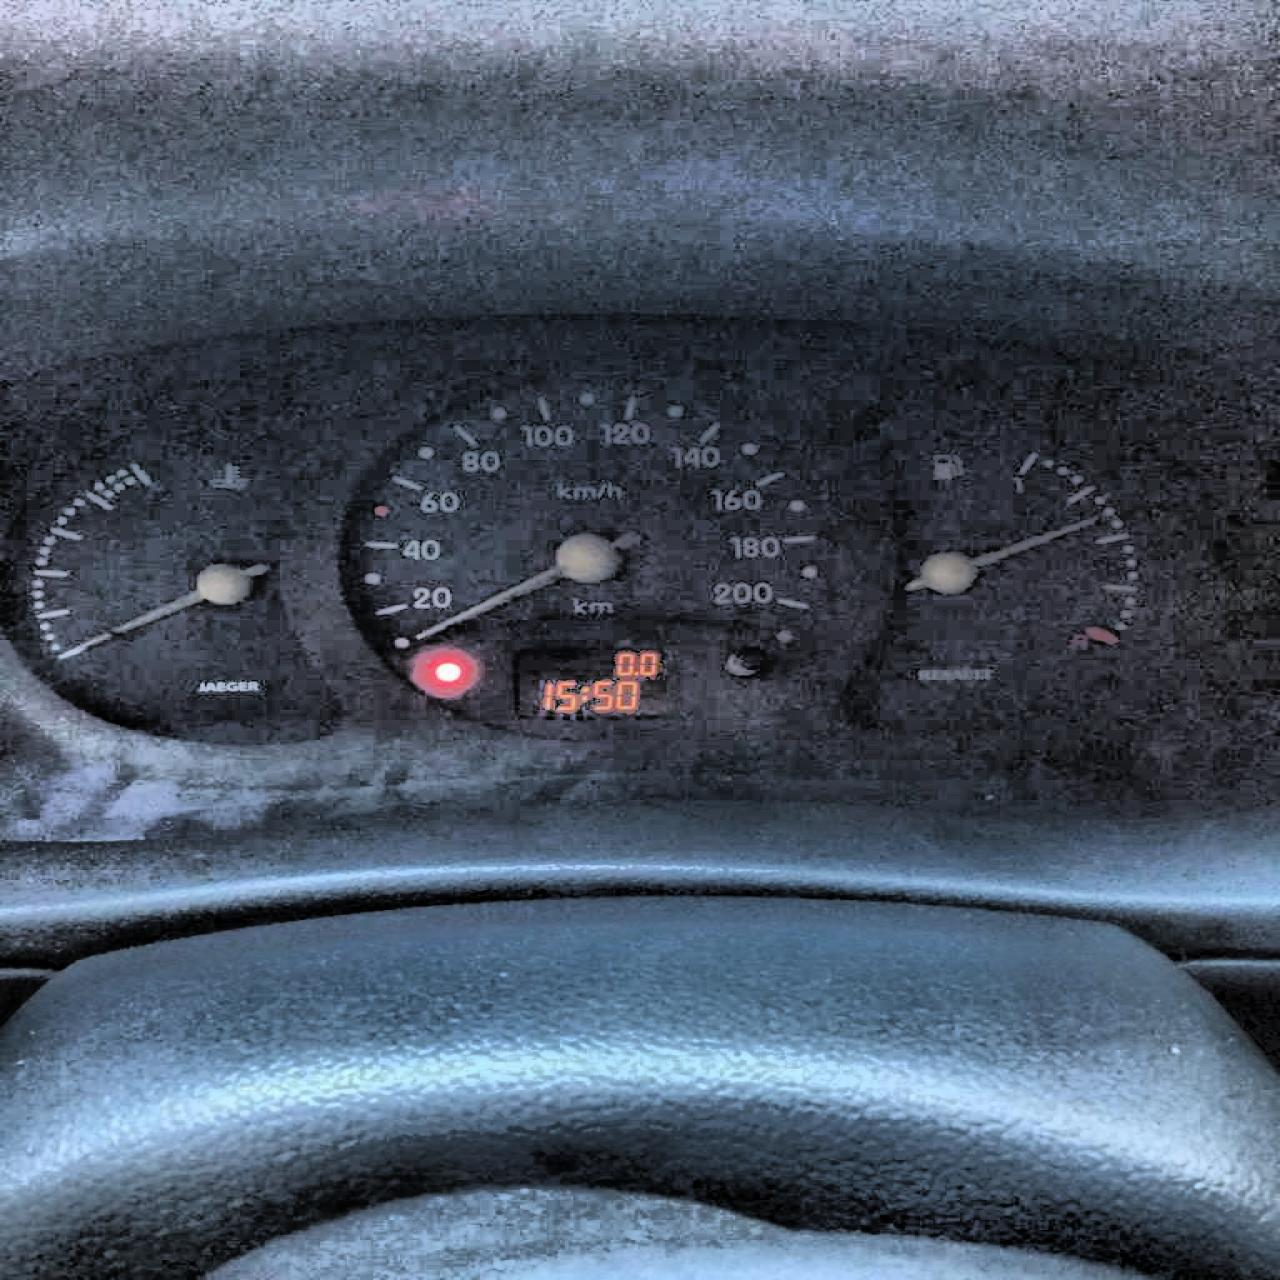-: (632, 669, 639, 675)
0: (613, 679, 639, 710), (612, 651, 633, 675), (639, 652, 656, 676)
1: (542, 681, 551, 709)
5: (590, 679, 613, 710), (554, 680, 576, 710)
X: (579, 685, 588, 699)
odometer: (502, 641, 686, 726)
